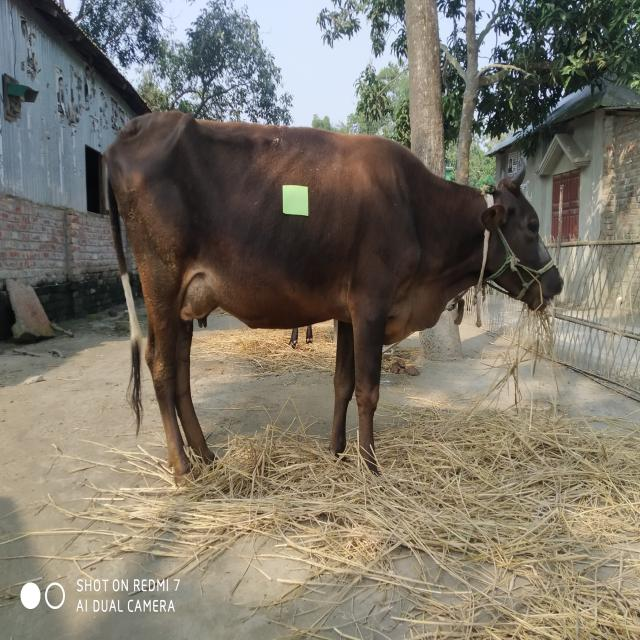badan_sapi: (132, 135, 392, 334)
sapi: (101, 109, 577, 495)
